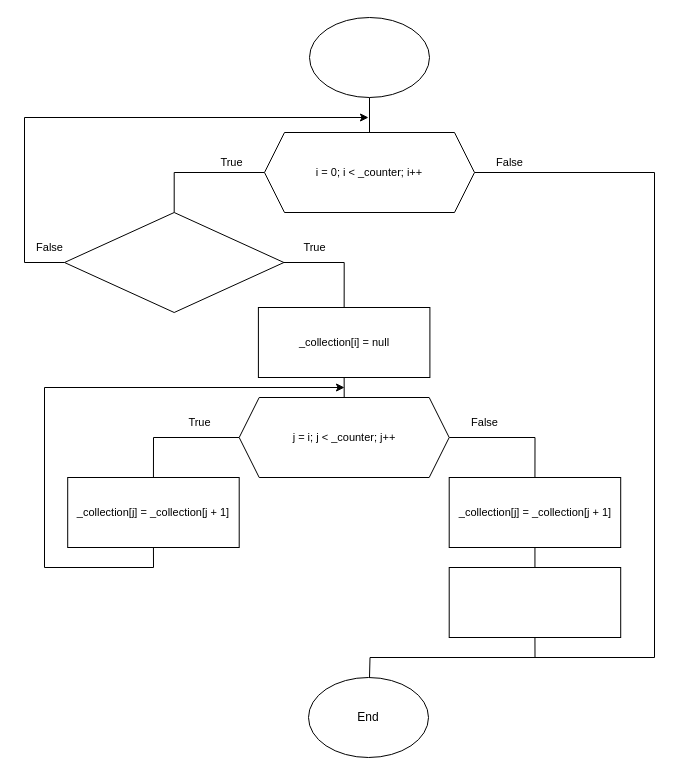
The diagram is 673 pixels wide and 775 high, and some of its shapes have lost their labels. Here are the shapes that lost their labels. From the top down, the box of each, then its label:
(308, 16, 430, 98): Start
(64, 212, 284, 312): _collection[i].GetId() == id
(448, 566, 621, 638): return
